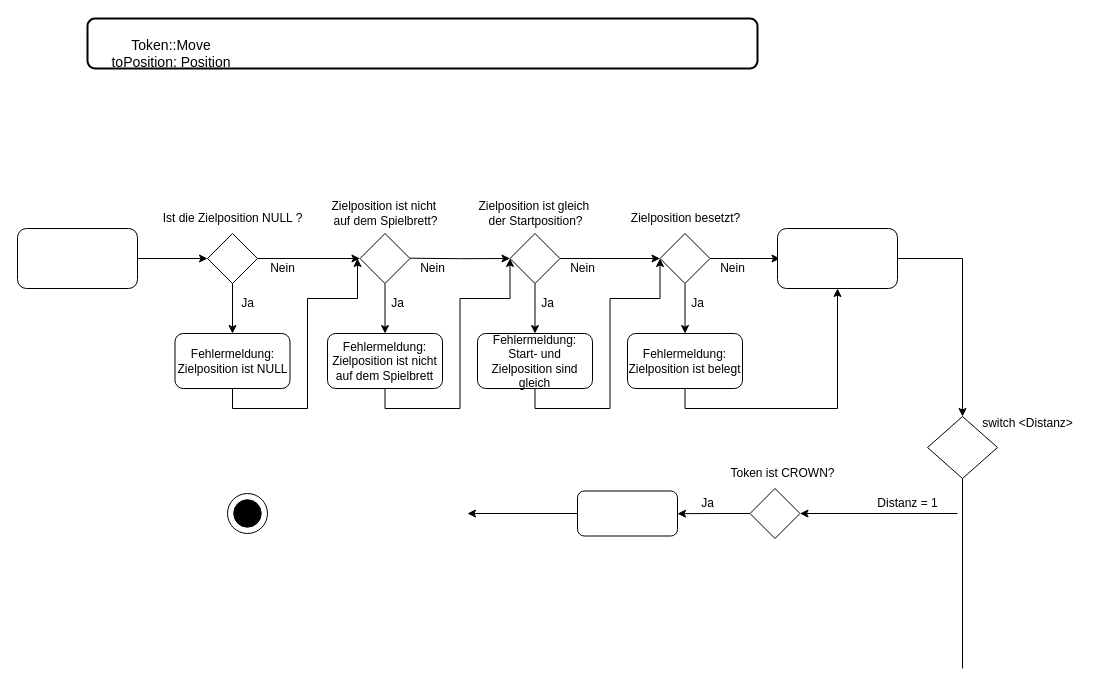
The diagram is 1100 pixels wide and 687 high, and some of its shapes have lost their labels. The shapes that lost their labels are listed below. From the top down, each one's box as (x1, y1, x2, y2) in pixels, then its label:
(16, 228, 138, 288): toPosition
(776, 228, 898, 288): Distanz zwischen Start- und Zielposition berechnen
(576, 490, 678, 536): Spielzug "Ziehen"
